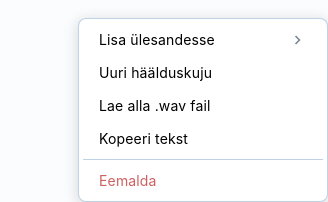
Test: SentenceMenu structure and classes › Escape in tasks panel goes back to main
(page scrolled)
Click the text "Lisa ülesandesse" at (157, 40), box [99, 29, 215, 50]
(page scrolled)
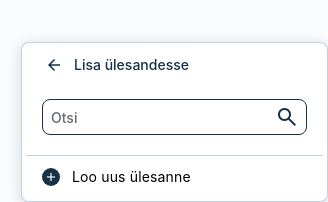
Press Escape in the menu with class "synthesis__dropdown-menu"
(page scrolled)
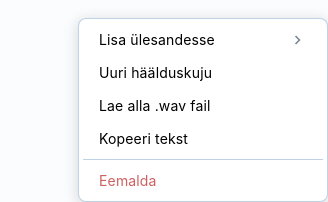
Now the text "Uuri häälduskuju" is shown, box [99, 62, 212, 83]
